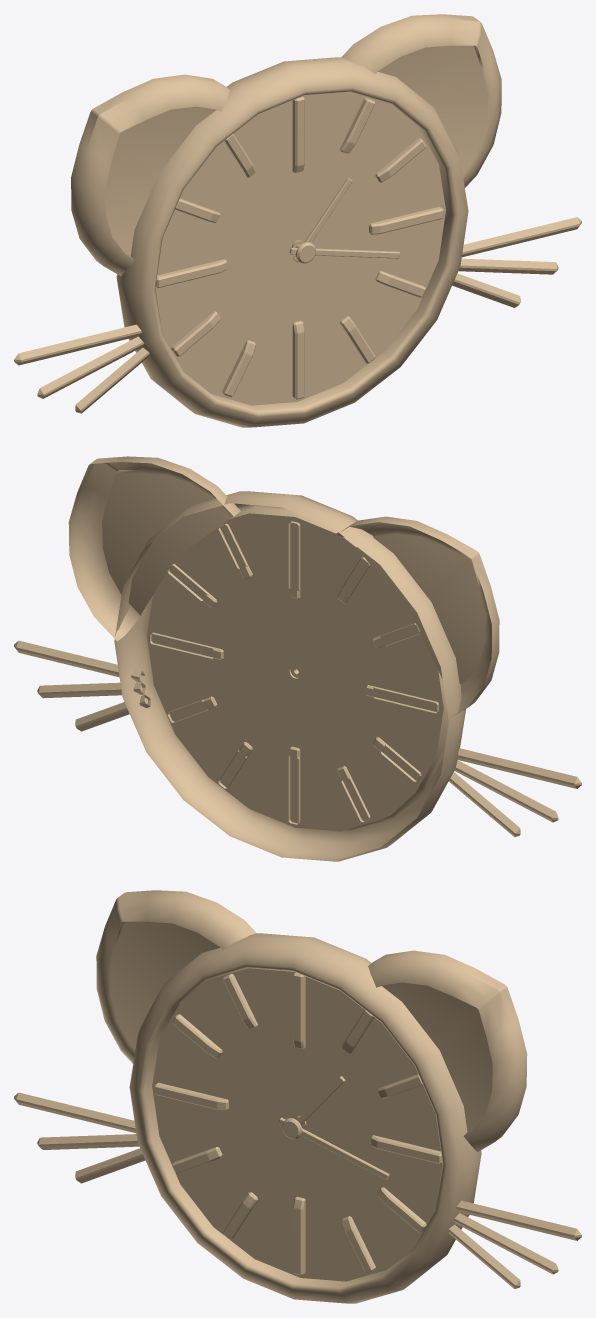
Rendered from clock for children room.fbx.
3 views of the same model, one above another, from view 1: azimuth 30°, elevation 25°; view 2: azimuth 150°, elevation 25°; view 3: azimuth 330°, elevation 25° (orthographic).
Parts seen in each view (by area): view 1: pCube20; view 2: pCube20; view 3: pCube20.
Part boxes in pixels (box(x1,y1,x2,y2)): pCube20: box(14, 14, 581, 427); pCube20: box(14, 456, 581, 861); pCube20: box(14, 890, 581, 1303).
Bounding box in the file's own units: 0.572 × 0.3533 × 0.0437.
